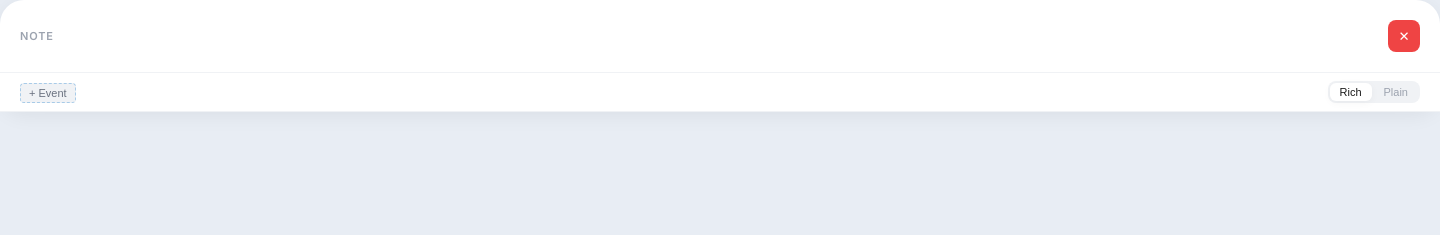
Test: NotesView — editor view › returns to grid when Close note is clicked
Click the button named "Close note": click(1404, 36) [1388, 20, 1420, 52]
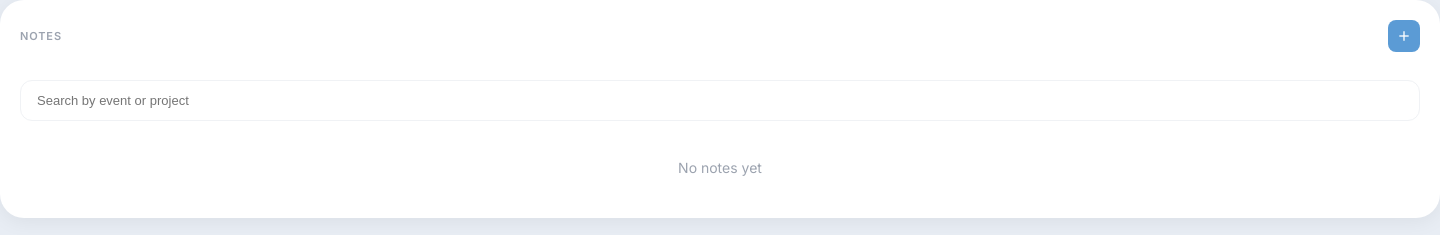
Check: the text "NOTES" is shown, box [20, 28, 62, 44]
